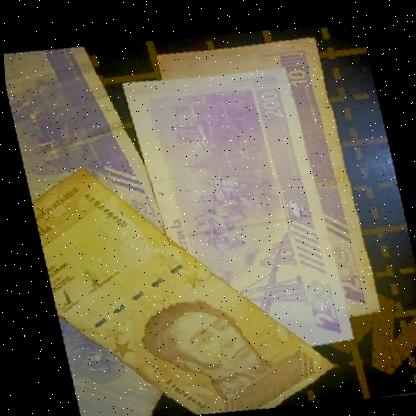five-front-vef: (29, 158, 336, 416)
ten-back-vef: (152, 22, 378, 326), (2, 37, 170, 280), (46, 300, 183, 416)
two_hundred-back-vef: (116, 53, 352, 358)
